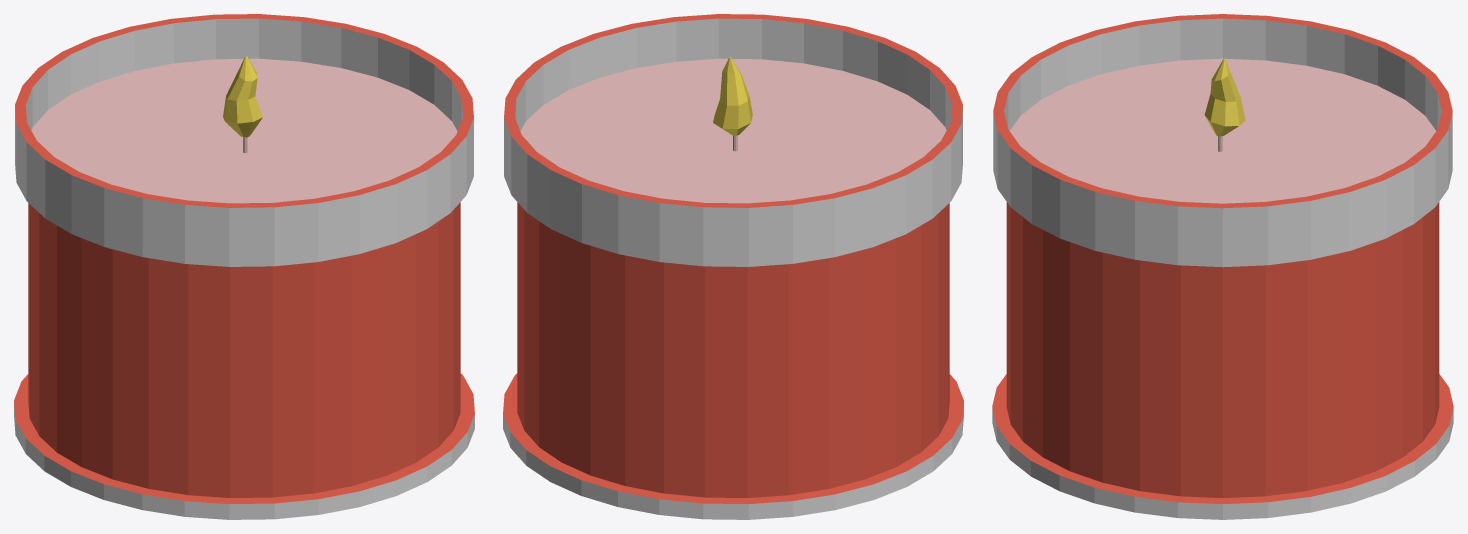
Rendered from Candle.fbx.
The picture shows the model from 3 angles, left to right: view 1: azimuth 30°, elevation 25°; view 2: azimuth 150°, elevation 25°; view 3: azimuth 270°, elevation 25°; orthographic projection.
Parts seen in each view (by area): view 1: Circle; view 2: Circle; view 3: Circle.
Part boxes in pixels (x1,y1,x2,y2): Circle: (14,14,474,519); Circle: (503,14,963,519); Circle: (992,14,1453,519).
Bounding box in the file's own units: 200 × 174 × 200.
